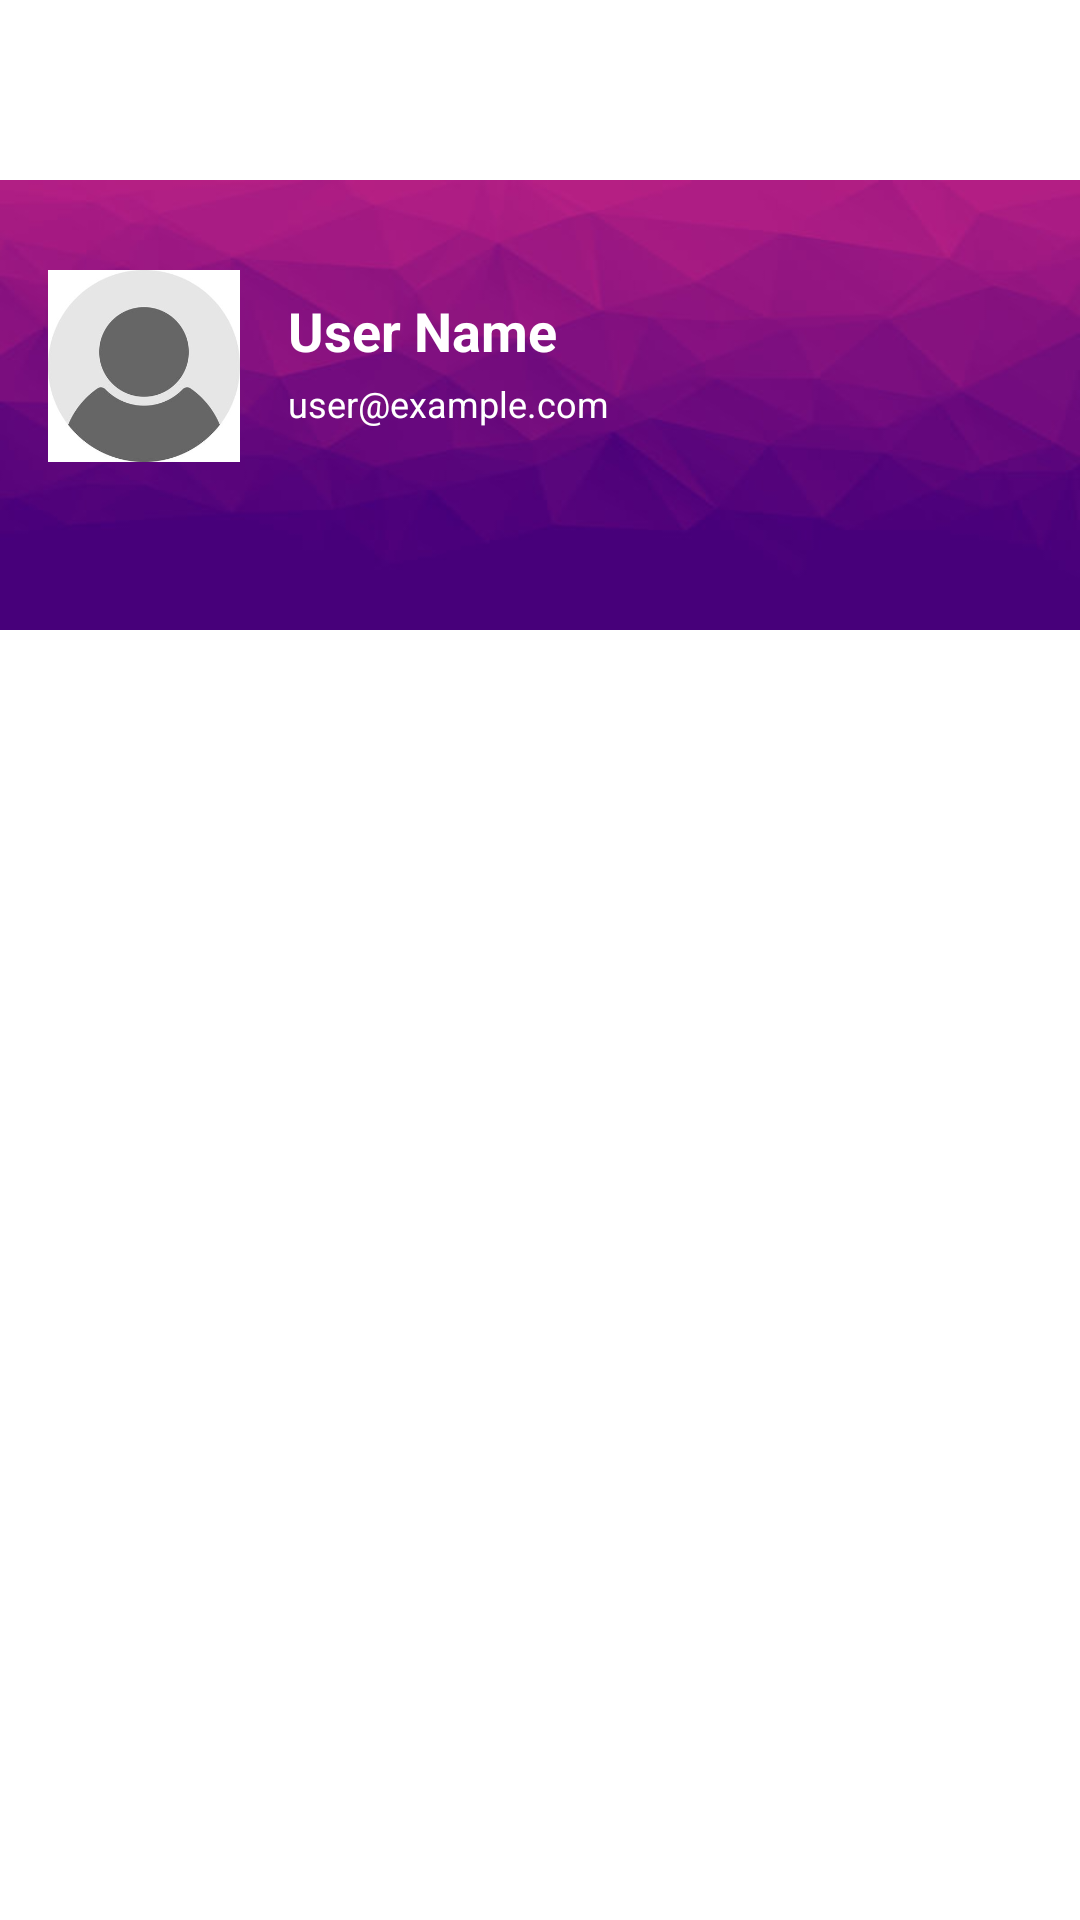

Icon click points for this 1080px x 1920px phone screenshot, format [x,y]:
generic user profile: [144,366]
